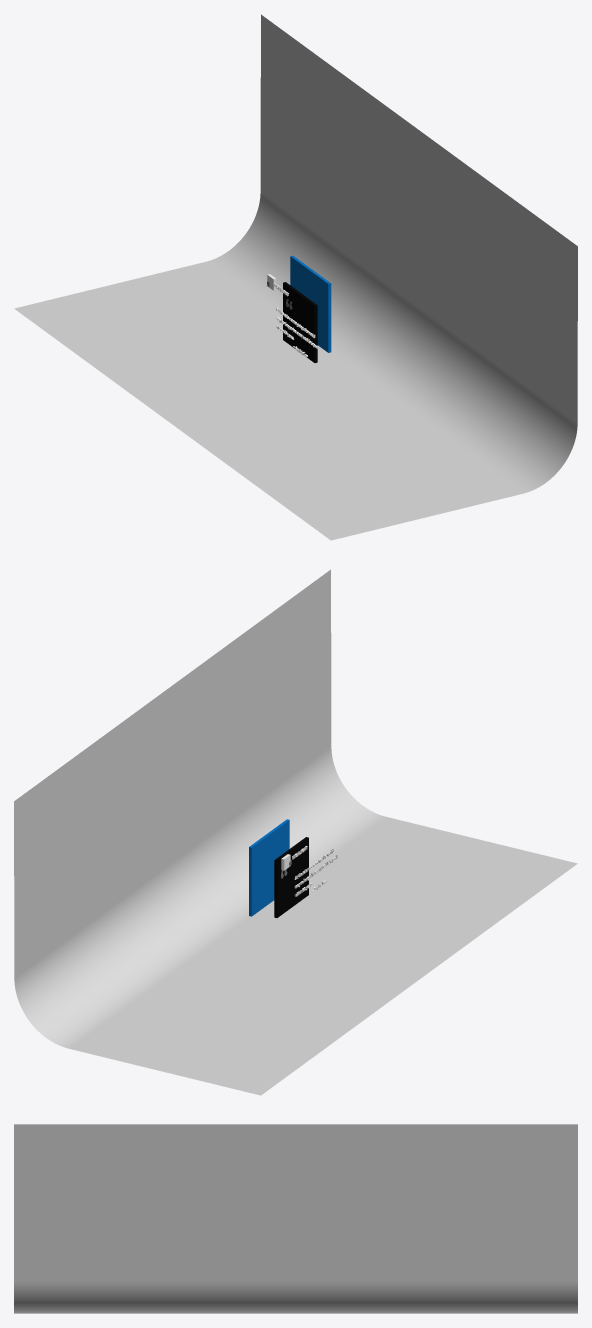
File: card.fbx
The picture shows the model from 3 angles, top to bottom: view 1: azimuth 30°, elevation 25°; view 2: azimuth 150°, elevation 25°; view 3: azimuth 270°, elevation 25°; orthographic projection. The views are drawn at different scales.
Visible parts, largest first — view 1: Sweep, Back, Front_2; view 2: Sweep, Back, Front_2; view 3: Sweep.
Boxes of the visible parts, x1,y1,x2,y2 form: Sweep: [14, 14, 577, 540]; Back: [290, 255, 331, 352]; Front_2: [283, 282, 317, 362]; Sweep: [14, 569, 577, 1095]; Back: [249, 819, 289, 916]; Front_2: [274, 837, 308, 917]; Sweep: [14, 1124, 577, 1313].
Bounding box in the file's own units: 900 × 814 × 2000.
